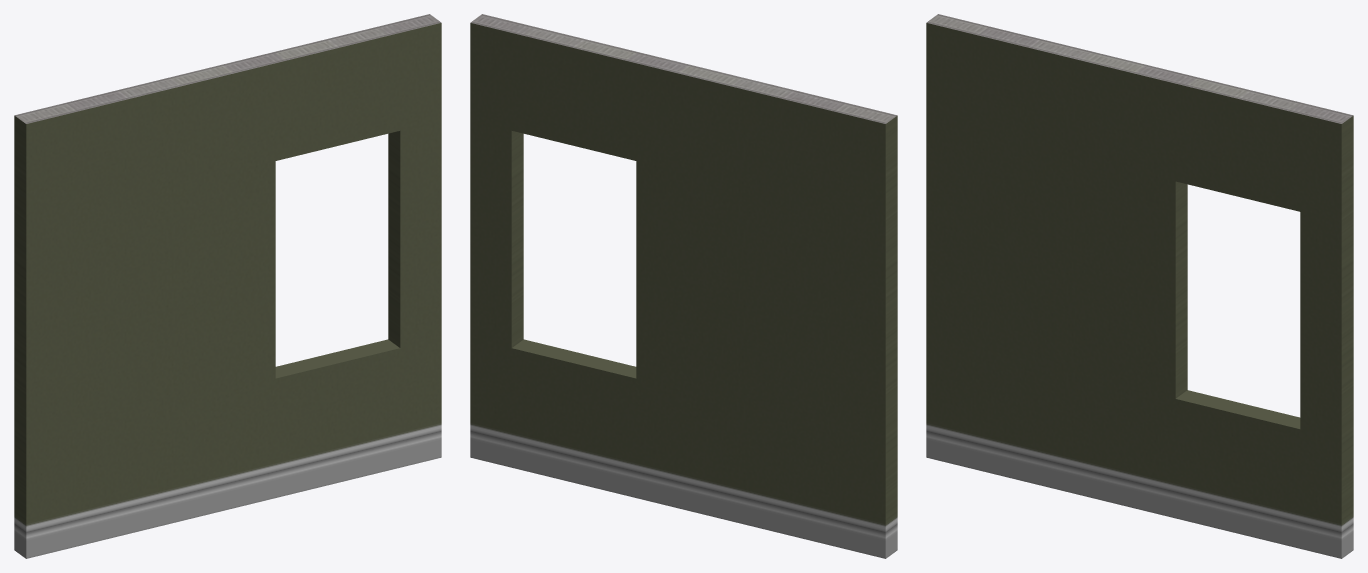
Rendered from wall2_7.fbx.
3 renders of one model, left to right at view 1: azimuth 30°, elevation 25°; view 2: azimuth 150°, elevation 25°; view 3: azimuth 330°, elevation 25°, orthographic.
Visible parts, largest first — view 1: wall2_green_g; view 2: wall2_green_g; view 3: wall2_green_g.
Part boxes in pixels (<box>): wall2_green_g: <box>14,14,441,558</box>; wall2_green_g: <box>470,14,897,558</box>; wall2_green_g: <box>926,14,1353,558</box>.
Bounding box in the file's own units: 400 × 400 × 20.
